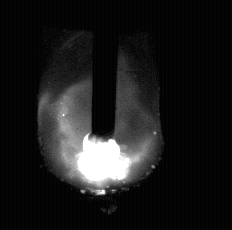arame: (92, 0, 117, 142)
poca: (38, 0, 162, 230)
